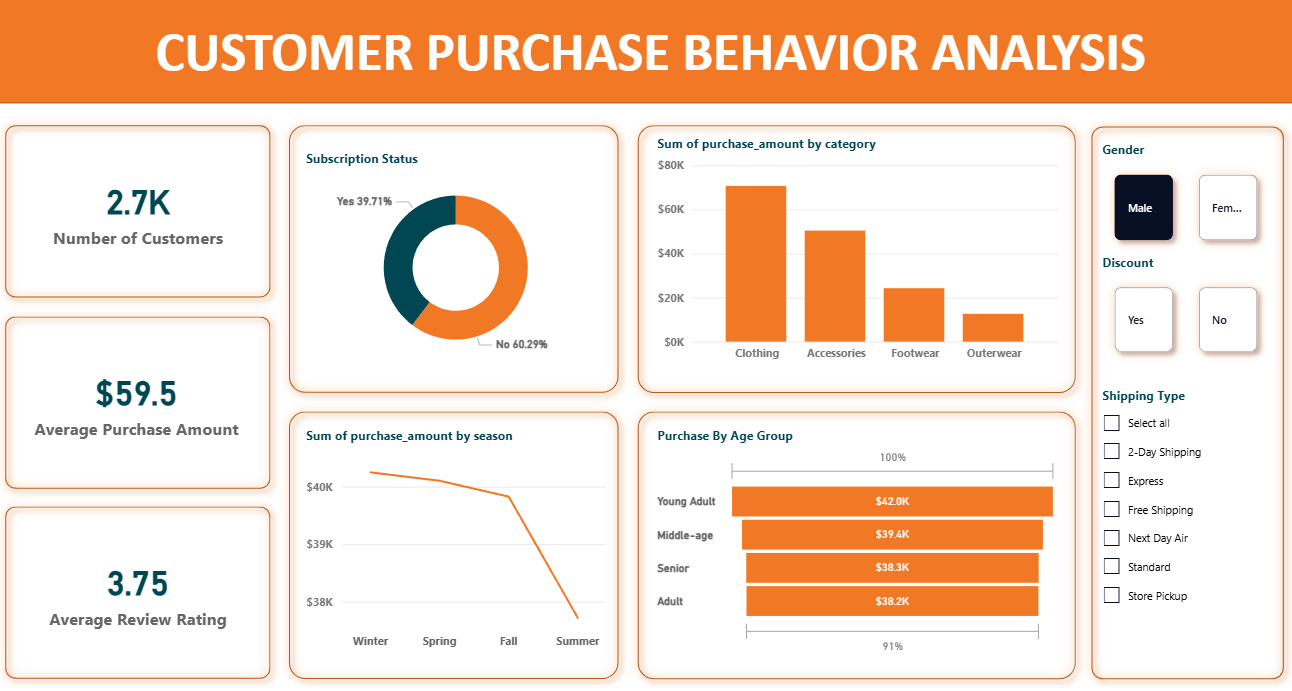

The dashboard page shown, as its layout file describes it:
{"tool":"powerbi","page":{"name":"Page 1","canvas":[1265,700],"ordinal":0},"visuals":[{"type":"shape","box":[0,0,1280.2,104.7],"z":0},{"type":"shape","box":[0.5,117.2,276.7,186],"z":1000},{"type":"shape","box":[0.5,489.3,276.7,186],"z":2000},{"type":"shape","box":[0.5,303.3,276.7,186],"z":3000},{"type":"shape","box":[1059.5,118.4,205.7,557.3],"z":4000},{"type":"shape","box":[277.3,117.2,339.5,279.1],"z":5000},{"type":"shape","box":[277.3,396.3,339.5,279.1],"z":6000},{"type":"shape","box":[617,116.8,445.3,279.3],"z":7000},{"type":"shape","box":[617,396,445.3,279.3],"z":8000},{"type":"card","fields":{"Values":["coustmer_bhv mytable.Number of Customers"]},"box":[25.3,135.2,226.4,148.4],"z":9000},{"type":"card","fields":{"Values":["coustmer_bhv mytable.Average Purchase Amount"]},"box":[28.6,324.3,218.8,142.9],"z":10000},{"type":"card","fields":{"Values":["coustmer_bhv mytable.Average Review Rating"]},"box":[25.3,507.9,226.4,148.4],"z":11000},{"type":"donutChart","title":"Subscription Status","fields":{"Y":["CountNonNull(coustmer_bhv mytable.subscription_status)"],"Category":["coustmer_bhv mytable.subscription_status"]},"box":[297.9,150.6,302.3,214.4],"z":12000},{"type":"funnel","title":"Purchase By Age Group","fields":{"Category":["coustmer_bhv mytable.age_group"],"Y":["Sum(coustmer_bhv mytable.purchase_amount)"]},"box":[640.1,420.6,401.1,226.4],"z":13000},{"type":"columnChart","fields":{"Y":["Sum(coustmer_bhv mytable.purchase_amount)"],"Category":["coustmer_bhv mytable.category"]},"box":[639.8,135.1,400.6,230.1],"z":14000},{"type":"lineChart","fields":{"Y":["Sum(coustmer_bhv mytable.purchase_amount)"],"Category":["coustmer_bhv mytable.season"]},"box":[297.6,420.6,302.2,226.4],"z":15000},{"type":"advancedSlicerVisual","title":"Gender","fields":{"Values":["coustmer_bhv mytable.gender"]},"box":[1074.5,141.3,173.5,114],"z":16000},{"type":"listSlicer","title":"Shipping Type","fields":{"Values":["coustmer_bhv mytable.shipping_type"]},"box":[1074.5,381.5,165.5,252.8],"z":17000},{"type":"advancedSlicerVisual","title":"Discount","fields":{"Values":["coustmer_bhv mytable.discount_applied"]},"box":[1074.5,251.7,173.5,113.8],"z":18000},{"type":"textbox","box":[0,17.2,1265.2,87.3],"z":19000}]}

Visuals, with their boxes in screenshot pixels (x1, y1, x2, y2):
shape: detection(7, 0, 1291, 99)
shape: detection(7, 111, 286, 299)
shape: detection(7, 486, 286, 674)
shape: detection(7, 299, 286, 486)
shape: detection(1074, 113, 1281, 674)
shape: detection(286, 111, 628, 393)
shape: detection(286, 393, 628, 674)
shape: detection(628, 111, 1077, 392)
shape: detection(628, 392, 1077, 674)
card - coustmer_bhv mytable.Number of Customers: detection(32, 129, 260, 279)
card - coustmer_bhv mytable.Average Purchase Amount: detection(36, 320, 256, 464)
card - coustmer_bhv mytable.Average Review Rating: detection(32, 505, 260, 654)
"Subscription Status" donutChart: detection(307, 145, 611, 361)
"Purchase By Age Group" funnel: detection(652, 417, 1056, 645)
columnChart - Sum(coustmer_bhv mytable.purchase_amount) x coustmer_bhv mytable.category: detection(651, 129, 1055, 361)
lineChart - Sum(coustmer_bhv mytable.purchase_amount) x coustmer_bhv mytable.season: detection(307, 417, 611, 645)
"Gender" advancedSlicerVisual: detection(1089, 136, 1264, 250)
"Shipping Type" listSlicer: detection(1089, 378, 1256, 632)
"Discount" advancedSlicerVisual: detection(1089, 247, 1264, 361)
textbox: detection(7, 11, 1281, 99)
